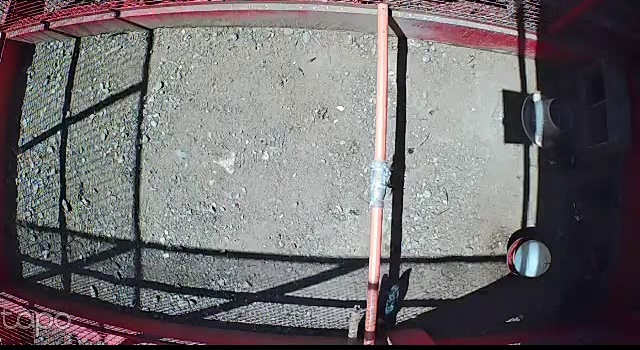Chicken: (357, 280, 404, 350)
Drinker: (504, 237, 551, 279)
Feeder: (521, 92, 574, 149)
